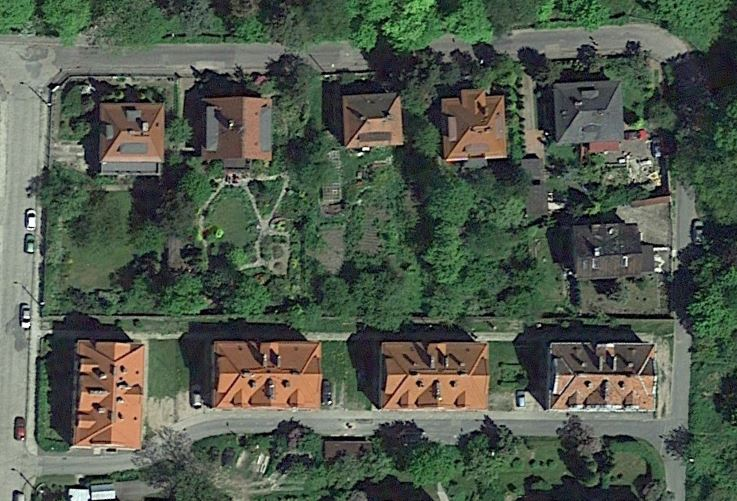block of flats: (64, 335, 147, 459), (208, 337, 327, 414), (375, 338, 493, 414), (543, 341, 663, 413)
family house: (196, 91, 276, 173), (439, 85, 514, 171), (90, 99, 170, 176), (552, 79, 628, 148), (569, 219, 647, 282), (338, 88, 406, 154)
